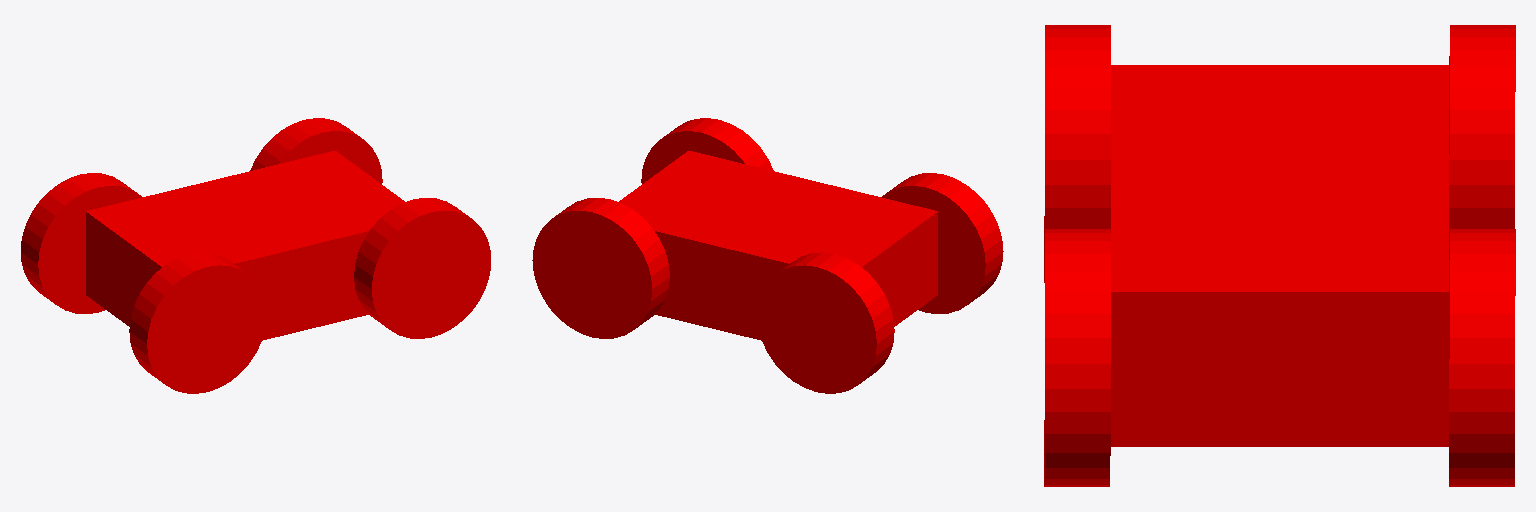
The robot description file, URDF, robot "robot_name":
<?xml version="1.0" ?>
<!-- =================================================================================== -->
<!-- |    This document was autogenerated by xacro from agro2.urdf.xacro               | -->
<!-- |    EDITING THIS FILE BY HAND IS NOT RECOMMENDED                                 | -->
<!-- =================================================================================== -->
<robot name="robot_name">
  <!-- ************************ -->
  <!--  variables -->
  <!-- ************************ -->
  <!--<xacro:property name="wheel_radius" value="0.0615"/>
  <xacro:property name="base_width" value="0.316"/>
  <xacro:property name="wheel_distance" value="0.225"/>-->
  <link name="base_link">
    <visual>
      <origin rpy="0.0 0.0 0.0" xyz="0.0 0.0 0.0"/>
      <geometry>
        <box size="0.5 0.316 0.16"/>
      </geometry>
      <material name="">
        <color rgba="1.0 0.0 0.0 1.0"/>
        <texture filename=""/>
      </material>
    </visual>
  </link>
  <link name="front_left_wheel">
    <visual name="">
      <origin rpy="1.57 0.0 0.0" xyz="0.0 0.0 0.0"/>
      <geometry>
        <cylinder length="0.0615" radius="0.12"/>
      </geometry>
      <material name="">
        <color rgba="1.0 0.0 0.0 1.0"/>
        <texture filename=""/>
      </material>
    </visual>
  </link>
  <link name="front_right_wheel">
    <visual name="">
      <origin rpy="1.57 0.0 0.0" xyz="0.0 0.0 0.0"/>
      <geometry>
        <cylinder length="0.0615" radius="0.12"/>
      </geometry>
      <material name="">
        <color rgba="1.0 0.0 0.0 1.0"/>
        <texture filename=""/>
      </material>
    </visual>
  </link>
  <link name="near_left_wheel">
    <visual name="">
      <origin rpy="1.57 0.0 0.0" xyz="0.0 0.0 0.0"/>
      <geometry>
        <cylinder length="0.0615" radius="0.12"/>
      </geometry>
      <material name="">
        <color rgba="1.0 0.0 0.0 1.0"/>
        <texture filename=""/>
      </material>
    </visual>
  </link>
  <link name="near_right_wheel">
    <visual name="">
      <origin rpy="1.57 0.0 0.0" xyz="0.0 0.0 0.0"/>
      <geometry>
        <cylinder length="0.0615" radius="0.12"/>
      </geometry>
      <material name="">
        <color rgba="1.0 0.0 0.0 1.0"/>
        <texture filename=""/>
      </material>
    </visual>
  </link>
  <joint name="front_left_joint" type="continuous">
    <origin rpy="0.0 0.0 0.0" xyz="0.225 0.18875 0.0"/>
    <parent link="base_link"/>
    <child link="front_left_wheel"/>
    <axis xyz="0.0 0.1 0.0"/>
    <limit effort="0.0" lower="0.0" upper="0.0" velocity="0.0"/>
  </joint>
  <joint name="front_right_joint" type="continuous">
    <origin rpy="0.0 0.0 0.0" xyz="0.225 -0.18875 0.0"/>
    <parent link="base_link"/>
    <child link="front_right_wheel"/>
    <axis xyz="0.0 0.1 0.0"/>
    <limit effort="0.0" lower="0.0" upper="0.0" velocity="0.0"/>
  </joint>
  <joint name="near_left_joint" type="continuous">
    <origin rpy="0.0 0.0 0.0" xyz="-0.225 0.18875 0.0"/>
    <parent link="base_link"/>
    <child link="near_left_wheel"/>
    <axis xyz="0.0 0.1 0.0"/>
    <limit effort="0.0" lower="0.0" upper="0.0" velocity="0.0"/>
  </joint>
  <joint name="near_right_joint" type="continuous">
    <origin rpy="0.0 0.0 0.0" xyz="-0.225 -0.18875 0.0"/>
    <parent link="base_link"/>
    <child link="near_right_wheel"/>
    <axis xyz="0.0 0.1 0.0"/>
    <limit effort="0.0" lower="0.0" upper="0.0" velocity="0.0"/>
  </joint>

</robot>

--- What the picture shows (computed from the rendered views, not written in the file) ---
The picture shows the robot from 3 angles, left to right: view 1: azimuth 30°, elevation 25°; view 2: azimuth 150°, elevation 25°; view 3: azimuth 270°, elevation 25°; orthographic projection.
Model robot_name with 5 links and 4 joints (4 continuous), rooted at base_link, posed every joint at zero.
Links seen in each view (by area): view 1: base_link, near_right_wheel, front_right_wheel, near_left_wheel, front_left_wheel; view 2: base_link, near_left_wheel, front_left_wheel, near_right_wheel, front_right_wheel; view 3: base_link, front_left_wheel, front_right_wheel, near_left_wheel, near_right_wheel.
Link boxes in pixels (left/top/right/bottom): base_link: left=86, top=151, right=404, bottom=340; near_right_wheel: left=129, top=252, right=266, bottom=393; front_right_wheel: left=354, top=198, right=490, bottom=338; near_left_wheel: left=21, top=173, right=141, bottom=313; front_left_wheel: left=250, top=118, right=382, bottom=183; base_link: left=619, top=151, right=937, bottom=340; near_left_wheel: left=757, top=252, right=894, bottom=393; front_left_wheel: left=532, top=198, right=669, bottom=338; near_right_wheel: left=882, top=173, right=1003, bottom=313; front_right_wheel: left=641, top=118, right=773, bottom=183; base_link: left=1111, top=65, right=1448, bottom=446; front_left_wheel: left=1449, top=229, right=1515, bottom=486; front_right_wheel: left=1044, top=229, right=1110, bottom=486; near_left_wheel: left=1449, top=25, right=1515, bottom=259; near_right_wheel: left=1044, top=25, right=1110, bottom=282.
Size in the robot's own frame: 0.69 by 0.4392 by 0.24 metres.
Geometry: primitives only (box / cylinder / sphere), no mesh files.